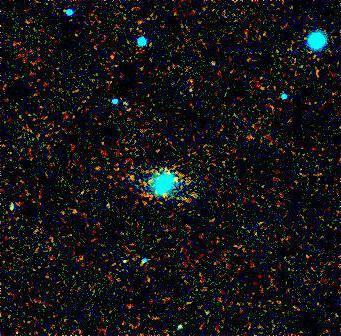star: (123, 167, 153, 197)
